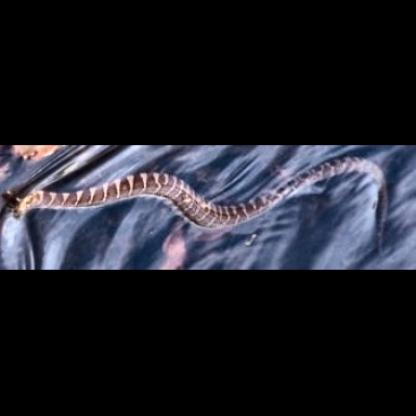Snake: (4, 160, 396, 233)
